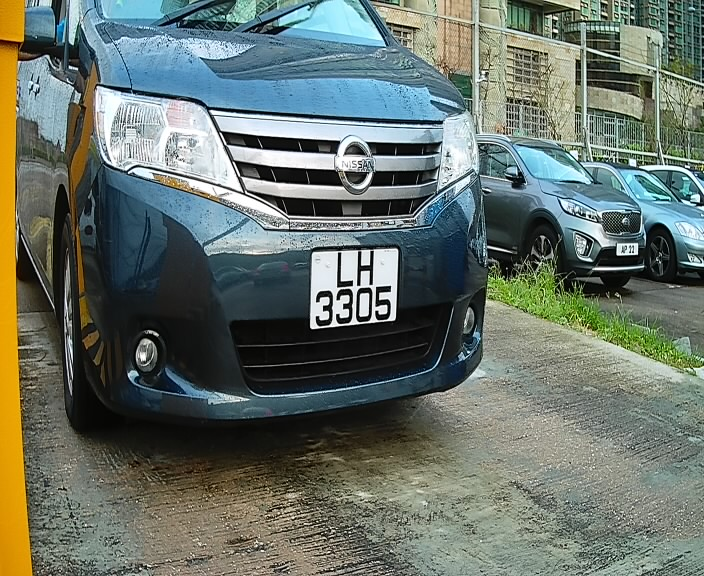Car: (3, 2, 497, 463)
License Plate: (304, 236, 410, 347)
